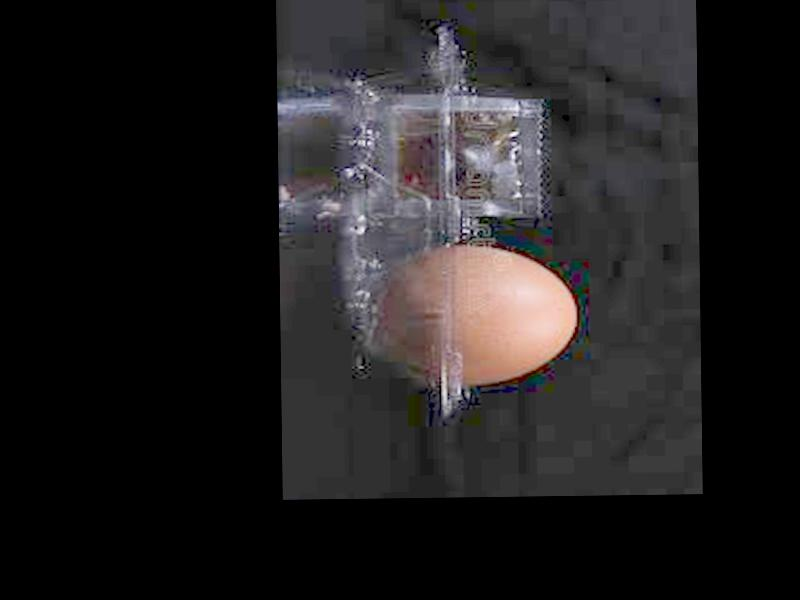Eggs: (368, 245, 576, 388)
